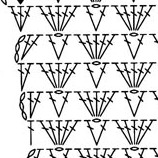enseble_chain: (9, 28, 49, 68), (89, 86, 126, 124), (51, 115, 86, 151), (90, 29, 124, 66), (51, 2, 85, 37), (107, 114, 139, 151), (54, 59, 87, 94), (128, 56, 158, 94), (108, 0, 138, 37), (34, 57, 64, 93), (109, 57, 138, 93), (130, 114, 158, 151), (86, 117, 116, 150), (72, 31, 100, 64), (75, 87, 102, 121), (87, 4, 115, 36), (126, 32, 154, 63), (124, 89, 152, 120), (86, 61, 114, 92), (51, 33, 78, 64), (51, 90, 78, 121), (37, 2, 62, 35), (6, 2, 29, 35), (21, 91, 39, 120), (123, 119, 142, 146), (127, 4, 144, 32), (14, 65, 31, 92), (49, 120, 66, 146), (30, 147, 45, 158)
fan: (44, 90, 64, 120), (89, 89, 107, 119)
